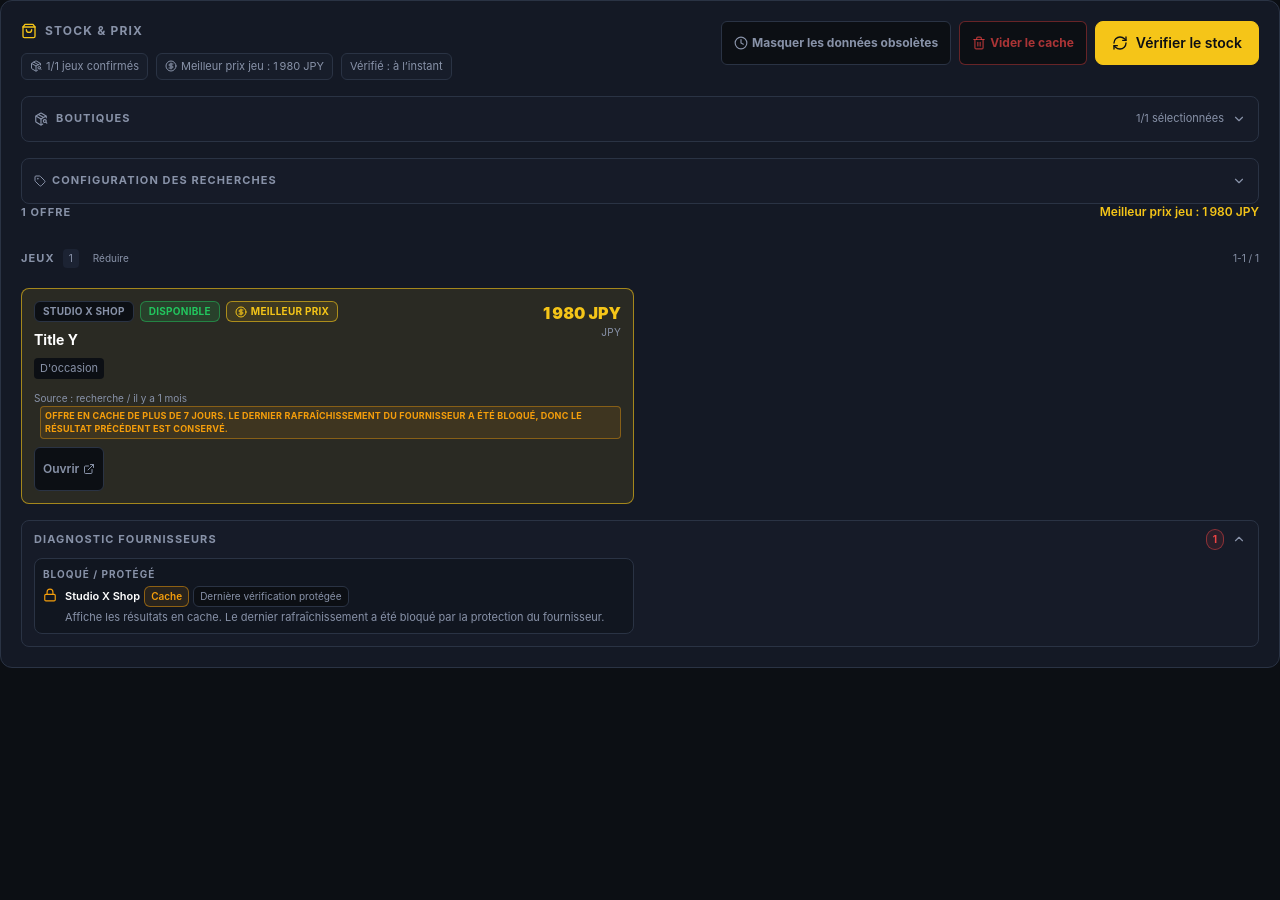
Test: StockPanel › hides stale offers by offer timestamp even when the provider status is fresh
The image size is (1280, 900).
Expected: the heading "Title Y" is shown, [34,331,78,348]
Expected: the text "Offre en cache de plus de 7 jours. Le dernier rafraîchissement du fournisseur a été bloqué, donc le résultat précédent e" is shown, [45,410,582,434]
What coordinates should you click on to do the following:
click the button "Masquer les données obsolètes"
I would click on:
 (836, 43)
Its box is [721,21,951,65].
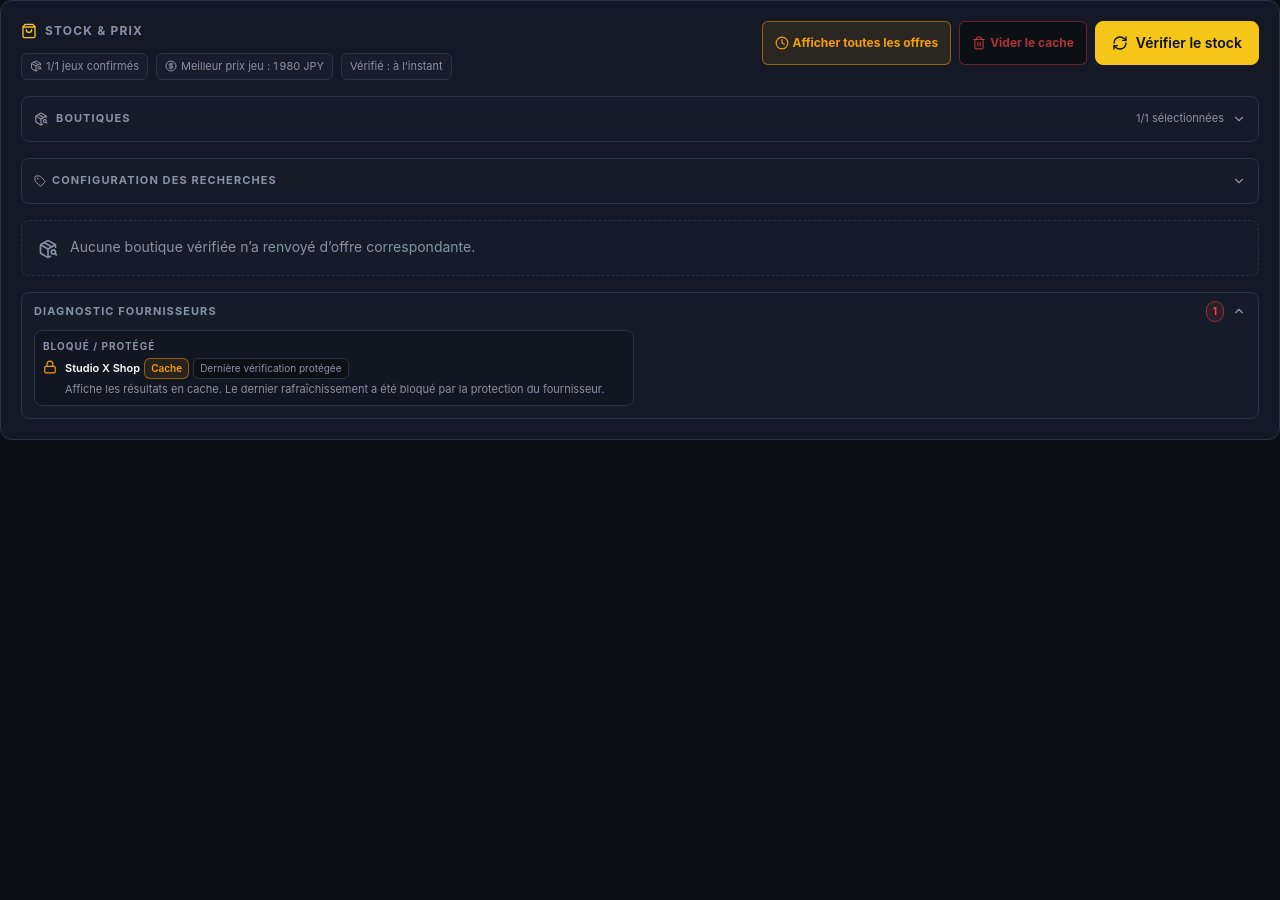
Expected: the text "Aucune boutique vérifiée n’a renvoyé d’offre correspondante." is shown, [70,236,475,256]
